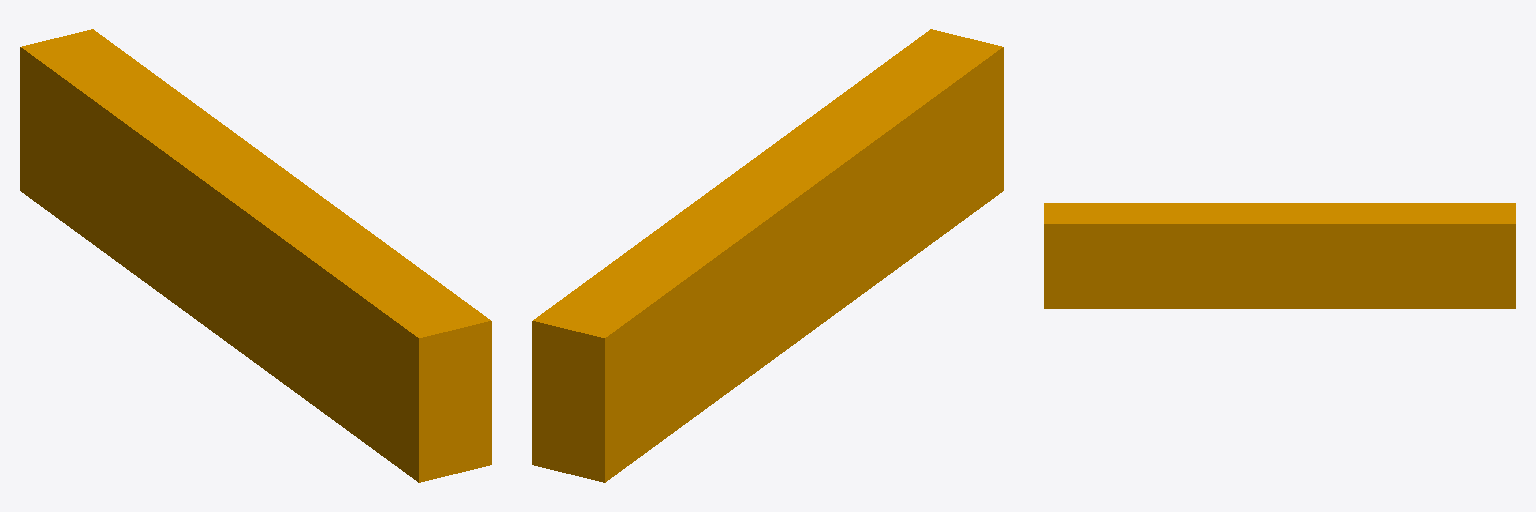
robot.urdf — 2v2_mod_cuboid_large:
<?xml version="1.0" ?>
<robot name="2v2_mod_cuboid_large">

    <link name="2v2_mod_cuboid_large">
        <visual>
            <origin rpy="0 0 1.57079632679" xyz="0 0 0"/>
            <geometry>
                <mesh filename="obj_files/2v2_mod_cuboid_large_collision.obj" scale="1 0.2 0.2"/>
            </geometry>
        </visual>
        <collision>
            <origin rpy="0 0 1.57079632679" xyz="0 0 0"/>
            <geometry>
                <mesh filename="obj_files/2v2_mod_cuboid_large_collision.obj" scale="1 0.2 0.2"/>
            </geometry>
        </collision>
    </link>

</robot>

--- What the picture shows (computed from the rendered views, not written in the file) ---
Views: 3 orthographic renders of the robot side by side, from view 1: azimuth 30°, elevation 25°; view 2: azimuth 150°, elevation 25°; view 3: azimuth 270°, elevation 25°.
Robot: 2v2_mod_cuboid_large — 1 links, 0 joints (none); root link 2v2_mod_cuboid_large; default pose: all joints at 0.
Visible links, largest first — view 1: 2v2_mod_cuboid_large; view 2: 2v2_mod_cuboid_large; view 3: 2v2_mod_cuboid_large.
Boxes of the visible links, <box> form: 2v2_mod_cuboid_large: <box>20,29,491,482</box>; 2v2_mod_cuboid_large: <box>532,29,1003,482</box>; 2v2_mod_cuboid_large: <box>1044,203,1515,308</box>.
Size in the robot's own frame: 0.0192 by 0.1826 by 0.0365 metres.
Meshes: 1 distinct files referenced, 1 mesh visuals loaded (1 OBJ).